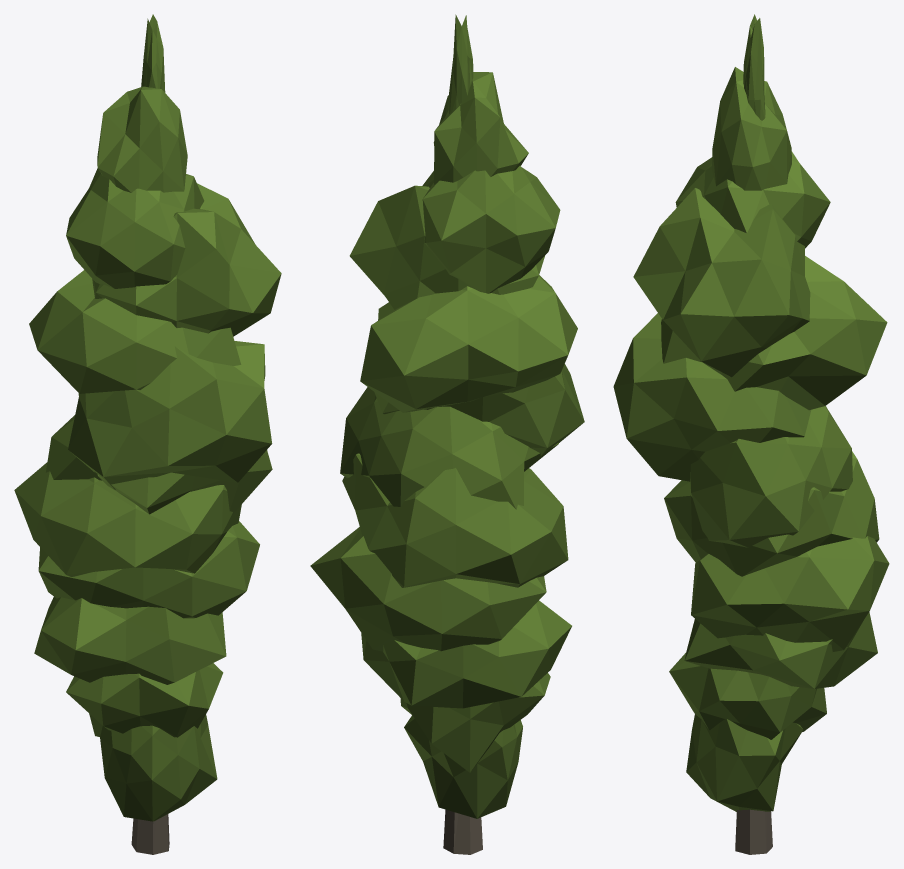
File: poplar.glb
3 renders of one model, left to right at view 1: azimuth 30°, elevation 25°; view 2: azimuth 150°, elevation 25°; view 3: azimuth 270°, elevation 25°, orthographic.
Parts seen in each view (by area): view 1: poplar; view 2: poplar; view 3: poplar.
Part boxes in pixels (box(x1,y1,x2,y2)): poplar: box(14, 14, 281, 854); poplar: box(310, 14, 584, 854); poplar: box(613, 14, 889, 854).
Bounding box in the file's own units: 6.81 × 24.54 × 7.38.
